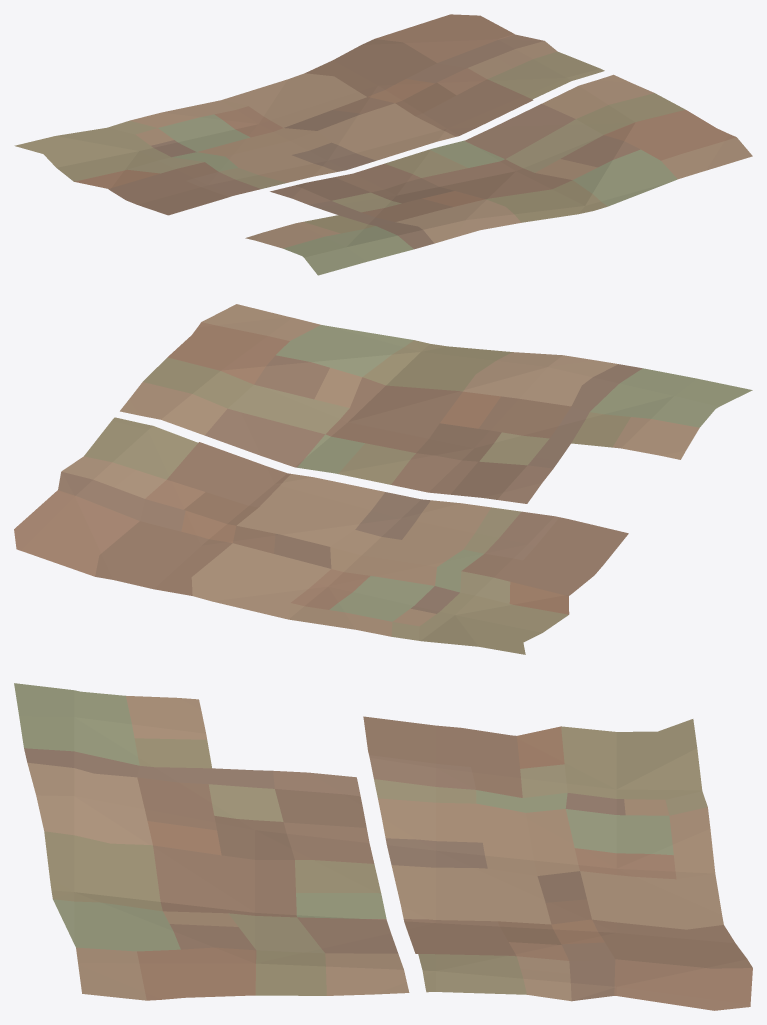
File: farm_-19_-26_soil.glb
3 renders of one model, top to bottom at view 1: azimuth 30°, elevation 25°; view 2: azimuth 150°, elevation 25°; view 3: azimuth 270°, elevation 25°, orthographic. The views are drawn at different scales.
Visible parts, largest first — view 1: geometry_0; view 2: geometry_0; view 3: geometry_0.
Boxes of the visible parts, <box> form: geometry_0: <box>14,14,752,275</box>; geometry_0: <box>14,304,752,654</box>; geometry_0: <box>14,683,752,1010</box>.
Size of the model in its own units: 344 by 39.71 by 327.
